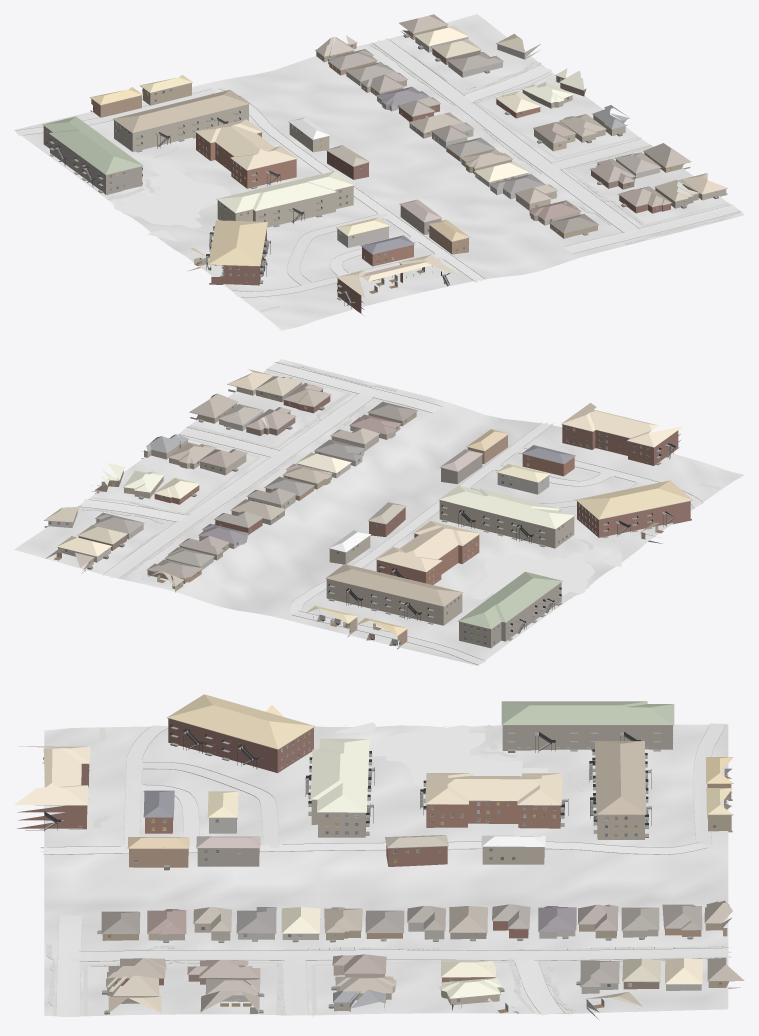
3 views of the same model, one above another, from view 1: azimuth 30°, elevation 25°; view 2: azimuth 150°, elevation 25°; view 3: azimuth 270°, elevation 25° (orthographic). The views are drawn at different scales.
Visible parts, largest first — view 1: ground, roof, wall, concrete, detail, water, walk, curb, wall_stucco, wall_stone, rail; view 2: ground, roof, wall, concrete, detail, water, curb, walk, wall_stone, wall_stucco, glass, rail (+1 smaller); view 3: ground, roof, wall, concrete, detail, water, walk, curb, wall_stucco, wall_stone, rail, glass (+1 smaller).
Boxes of the visible parts, left/top/right/bottom form: ground: left=14, top=14, right=744, bottom=330; roof: left=43, top=14, right=727, bottom=298; wall: left=43, top=25, right=727, bottom=314; concrete: left=15, top=38, right=740, bottom=296; detail: left=43, top=25, right=727, bottom=308; water: left=113, top=165, right=230, bottom=241; walk: left=107, top=43, right=740, bottom=311; curb: left=15, top=39, right=742, bottom=297; wall_stucco: left=346, top=62, right=580, bottom=225; wall_stone: left=337, top=37, right=660, bottom=247; rail: left=49, top=110, right=449, bottom=302; ground: left=14, top=359, right=744, bottom=665; roof: left=44, top=369, right=692, bottom=635; wall: left=78, top=382, right=691, bottom=649; concrete: left=81, top=362, right=703, bottom=664; detail: left=44, top=381, right=692, bottom=644; water: left=469, top=552, right=628, bottom=599; curb: left=78, top=362, right=703, bottom=665; walk: left=75, top=362, right=720, bottom=601; wall_stone: left=44, top=412, right=549, bottom=562; wall_stucco: left=96, top=425, right=400, bottom=569; glass: left=48, top=392, right=648, bottom=644; rail: left=328, top=443, right=675, bottom=631; ground: left=44, top=724, right=728, bottom=1016; roof: left=14, top=694, right=744, bottom=1012; wall: left=17, top=718, right=740, bottom=1011; concrete: left=39, top=723, right=731, bottom=1016; detail: left=35, top=717, right=734, bottom=1014; water: left=335, top=722, right=548, bottom=788; walk: left=46, top=725, right=727, bottom=1016; curb: left=40, top=724, right=731, bottom=1016; wall_stucco: left=148, top=923, right=658, bottom=993; wall_stone: left=209, top=818, right=701, bottom=1019; rail: left=44, top=724, right=651, bottom=825; glass: left=125, top=734, right=716, bottom=1007.
Size of the model in its own units: 267 by 17.44 by 267.
